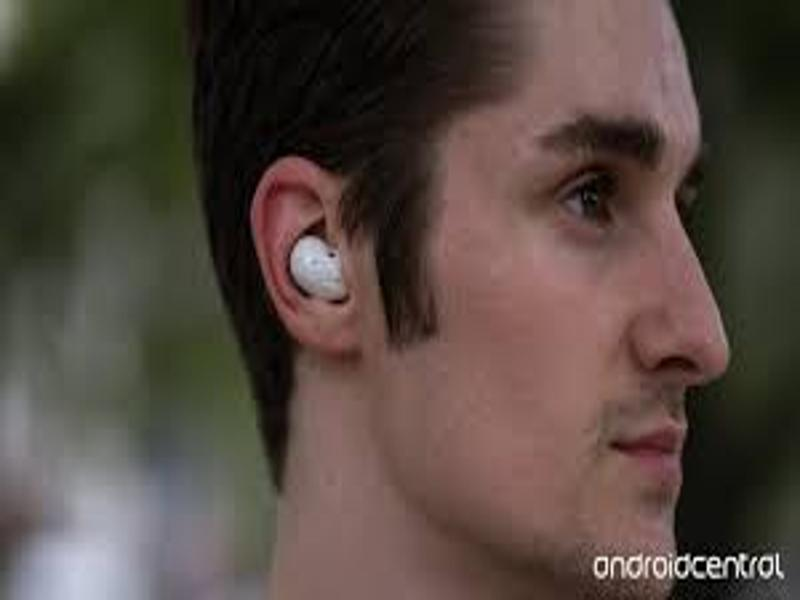headphone: (285, 235, 352, 303)
